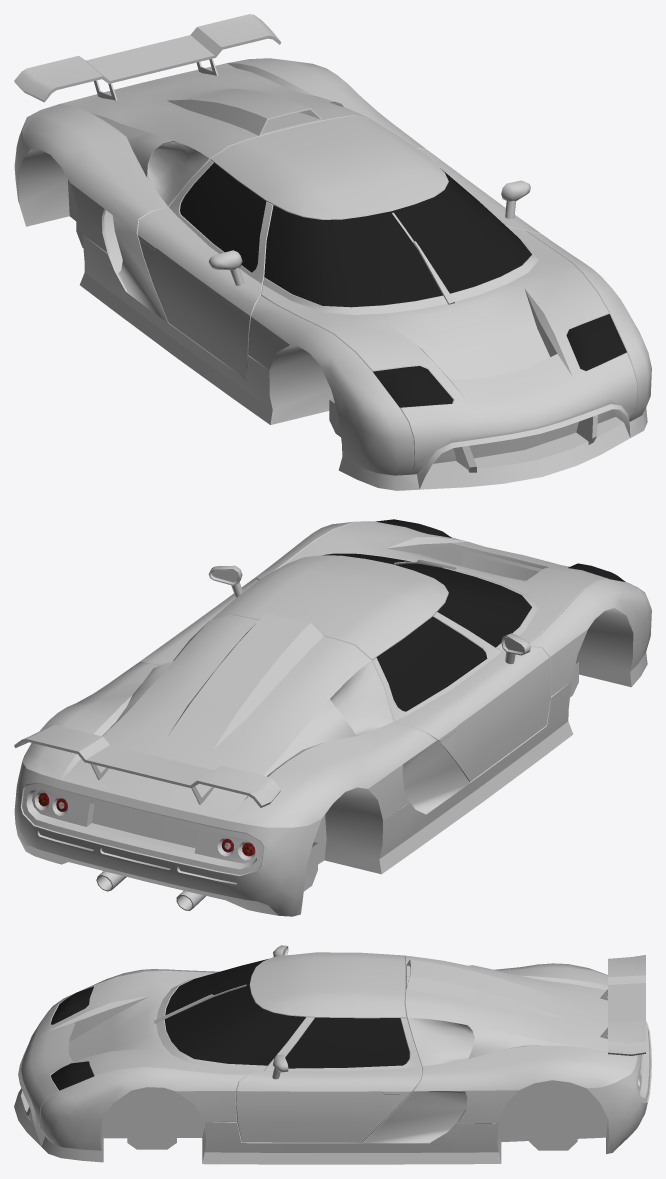
File: Car_1.fbx
The picture shows the model from 3 angles, top to bottom: view 1: azimuth 30°, elevation 25°; view 2: azimuth 150°, elevation 25°; view 3: azimuth 270°, elevation 25°; orthographic projection. The views are drawn at different scales.
Visible parts, largest first — view 1: Player_Car; view 2: Player_Car; view 3: Player_Car.
Part boxes in pixels (left/top/right/bottom): Player_Car: left=14, top=14, right=651, bottom=490; Player_Car: left=14, top=519, right=651, bottom=916; Player_Car: left=14, top=945, right=651, bottom=1164.
Size of the model in its own units: 199 by 109 by 440.
